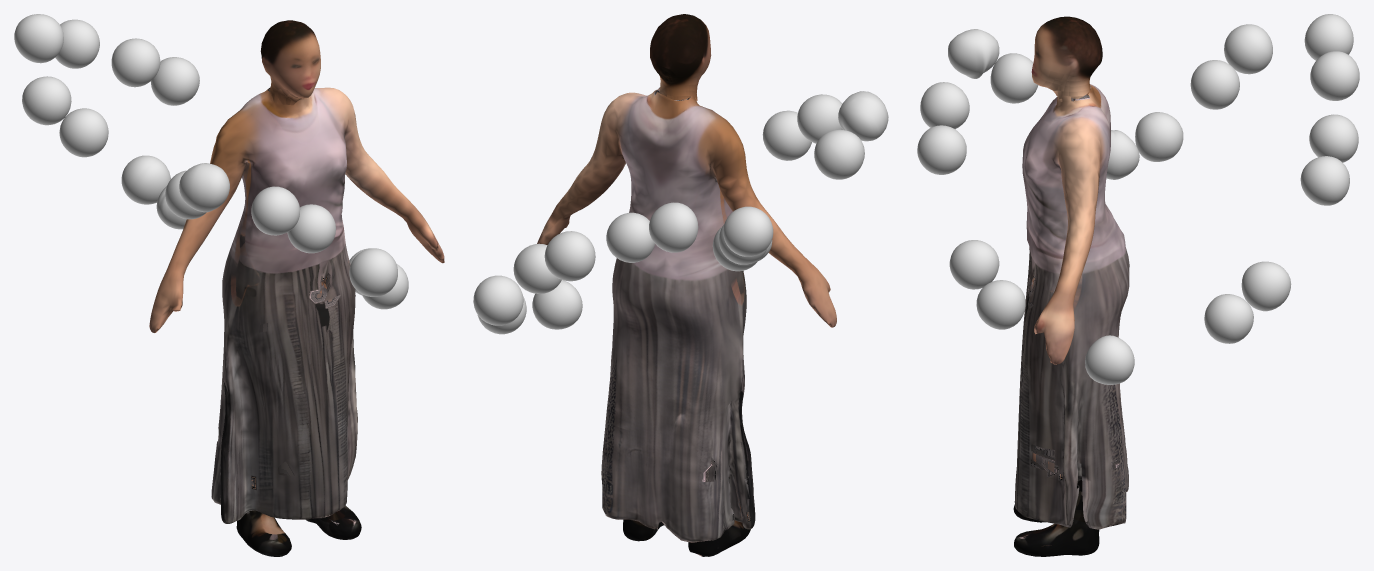
The picture shows the model from 3 angles, left to right: view 1: azimuth 30°, elevation 25°; view 2: azimuth 150°, elevation 25°; view 3: azimuth 270°, elevation 25°; orthographic projection. The views are drawn at different scales.
Visible parts, largest first — view 1: me, icons; view 2: me, icons; view 3: me, icons.
Boxes of the visible parts, <box> form: me: <box>149,20,444,556</box>; icons: <box>14,14,408,309</box>; me: <box>537,14,836,556</box>; icons: <box>473,91,888,334</box>; me: <box>1013,16,1129,556</box>; icons: <box>917,14,1359,384</box>.
Size of the model in its own units: 1.26 by 1.9 by 1.48.
1 material, 1 textured.
